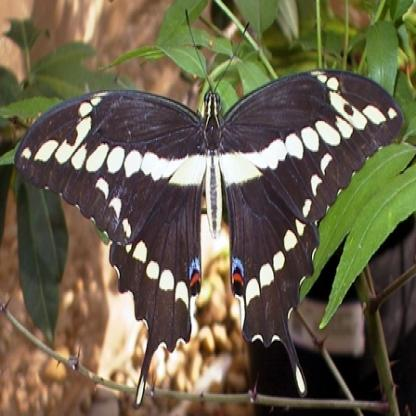Giant Swallowtail: (38, 44, 416, 342)
